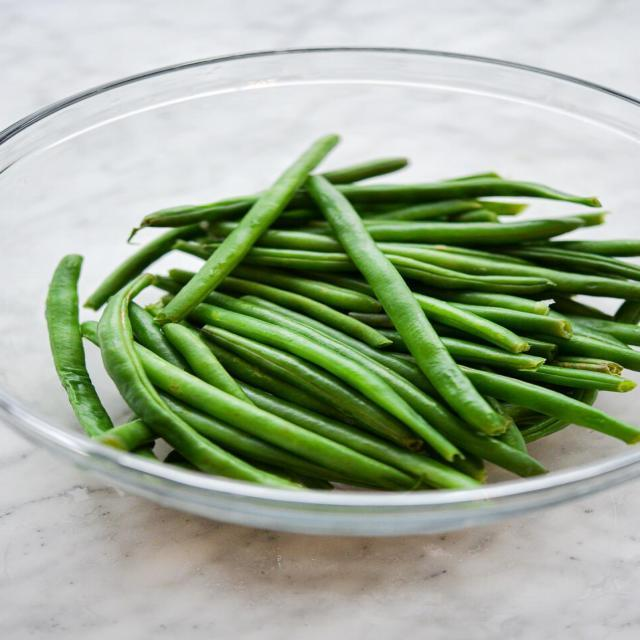Beans: (22, 117, 639, 503)
